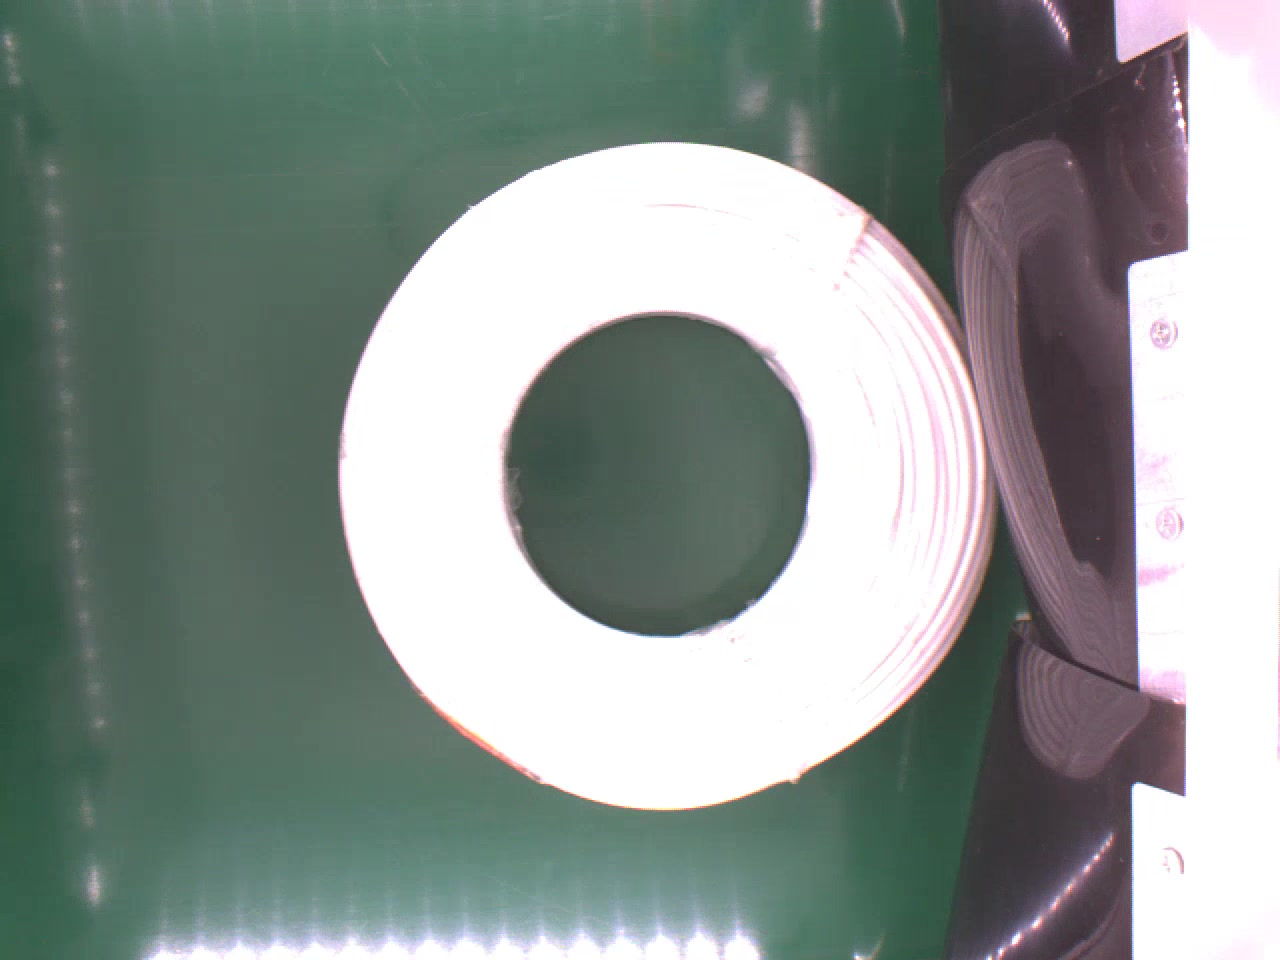white: (325, 134, 1005, 822)
